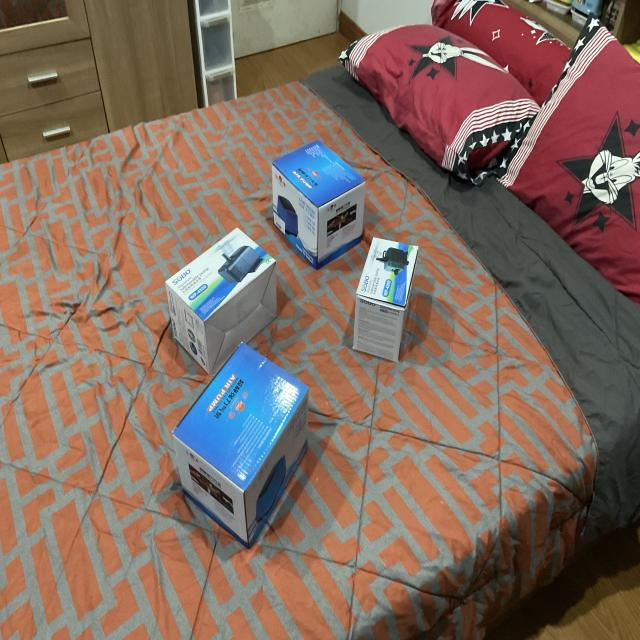SOBO_WP_4200: (160, 214, 284, 358), (350, 230, 433, 376)
YAMANO_LPP_20: (164, 340, 333, 561), (262, 126, 369, 263)
